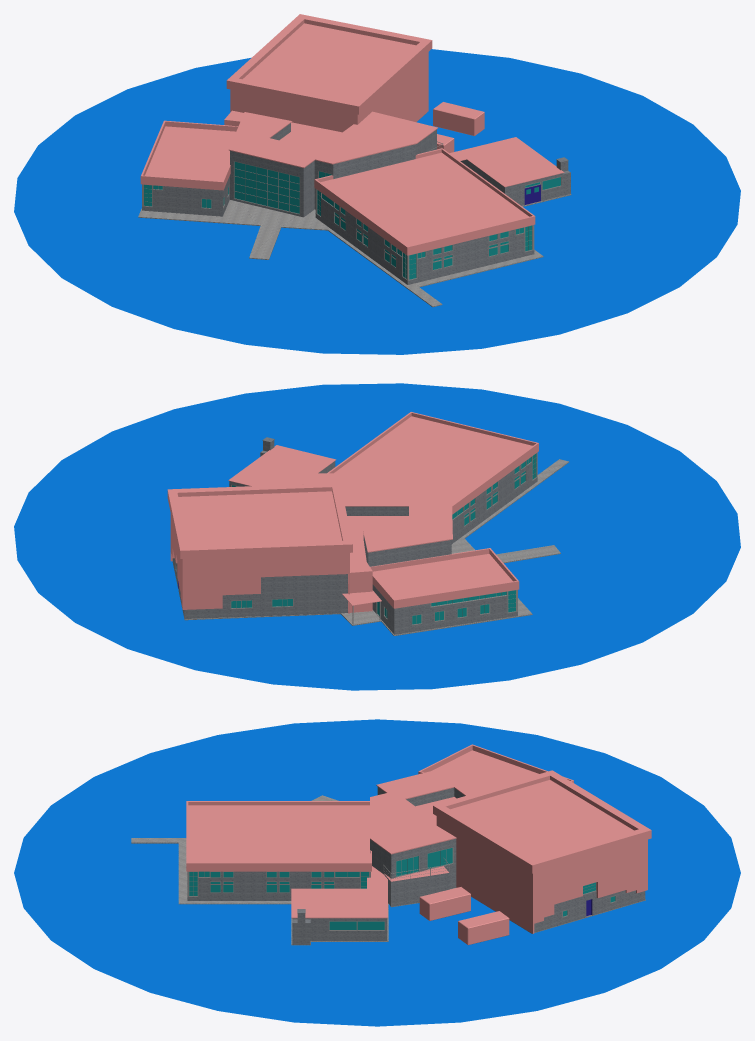
The model's file is Plaza de Transferencias_001.FBX.
3 views of the same model, one above another, from view 1: azimuth 30°, elevation 25°; view 2: azimuth 150°, elevation 25°; view 3: azimuth 270°, elevation 25° (orthographic).
Parts seen in each view (by area): view 1: Circle001, Box001, Box006, Box005, FixedWindow001, Box003, Line003, Object001, Line013, Box008, Line002, Line004 (+2 smaller); view 2: Circle001, Box005, Box001, Box006, Box003, Object001, Line003, Box008, Line013, FixedWindow001, Line004, Line001 (+1 smaller); view 3: Circle001, Box001, Object001, Box005, Box006, Line003, Box008, FixedWindow001, Line002, Line013, Box007, Box003 (+4 smaller).
Boxes of the visible parts, bbox=[...] form: Circle001: bbox=[14, 49, 740, 354]; Box001: bbox=[315, 152, 534, 284]; Box006: bbox=[229, 111, 437, 217]; Box005: bbox=[243, 23, 415, 101]; FixedWindow001: bbox=[143, 161, 561, 280]; Box003: bbox=[142, 126, 235, 216]; Line003: bbox=[226, 14, 432, 114]; Object001: bbox=[230, 52, 428, 132]; Line013: bbox=[138, 113, 571, 307]; Box008: bbox=[449, 137, 564, 205]; Line002: bbox=[314, 148, 535, 255]; Line004: bbox=[140, 120, 237, 190]; Circle001: bbox=[14, 383, 740, 690]; Box005: bbox=[172, 491, 347, 618]; Box001: bbox=[334, 416, 537, 543]; Box006: bbox=[303, 473, 452, 566]; Box003: bbox=[372, 554, 517, 634]; Object001: bbox=[170, 513, 349, 613]; Line003: bbox=[167, 483, 352, 558]; Box008: bbox=[228, 445, 336, 486]; Line013: bbox=[184, 459, 568, 635]; FixedWindow001: bbox=[175, 453, 536, 625]; Line004: bbox=[370, 548, 519, 608]; Line001: bbox=[347, 516, 408, 612]; Circle001: bbox=[14, 719, 740, 1026]; Box001: bbox=[187, 805, 370, 900]; Object001: bbox=[436, 816, 647, 933]; Box005: bbox=[450, 780, 645, 932]; Box006: bbox=[370, 766, 502, 889]; Line003: bbox=[433, 770, 651, 873]; Box008: bbox=[291, 866, 387, 940]; FixedWindow001: bbox=[188, 847, 616, 930]; Line002: bbox=[186, 801, 371, 871]; Line013: bbox=[131, 795, 645, 945]; Box007: bbox=[383, 866, 449, 906]; Box003: bbox=[432, 750, 538, 784].
Bounding box in the file's own units: 7981 × 872 × 7981.
